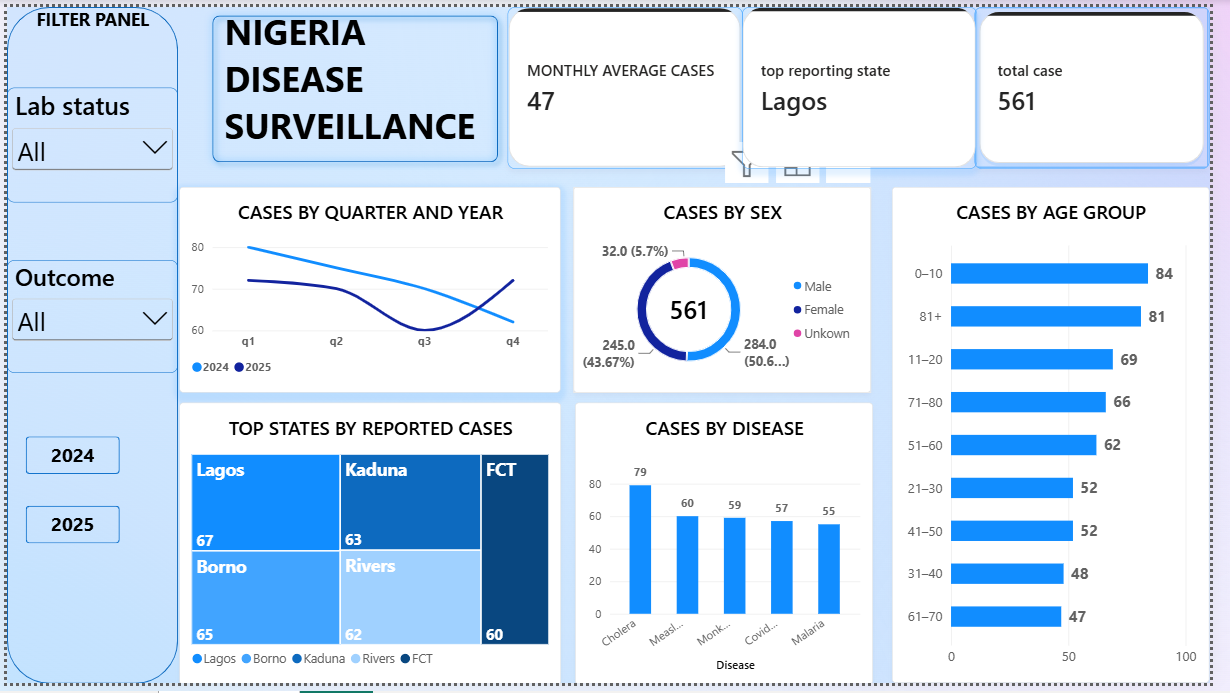

The page's visual inventory and layout, read from the dashboard file:
{"tool":"powerbi","page":{"name":"Page 1","canvas":[1280,720],"ordinal":0},"visuals":[{"type":"shape","box":[210,0,322,174],"z":1000},{"type":"cardVisual","title":"Average cases per month","fields":{"Data":["measures (2).MONTHLY AVERAGE CASES"]},"box":[532.6,0,250,172],"z":2000},{"type":"lineChart","title":"CASES BY QUARTER AND YEAR","fields":{"Category":["CALENDAR.quarter"],"Y":["measures (2).total cases"],"Series":["CALENDAR.year"]},"box":[184.3,191.7,405.5,218.7],"z":12000},{"type":"barChart","title":"CASES BY AGE GROUP","fields":{"Category":["Nigeria Disease Surveillance.Age Group"],"Y":["measures (2).total cases"]},"box":[942.5,192.5,337.5,527.5],"z":13000},{"type":"donutChart","title":"CASES BY SEX","fields":{"Category":["Nigeria Disease Surveillance.Sex"],"Y":["measures (2).total cases"]},"box":[602.2,191.7,317.1,218.7],"z":14000},{"type":"clusteredColumnChart","title":"CASES BY DISEASE","fields":{"Category":["Nigeria Disease Surveillance.Disease"],"Y":["measures (2).total cases"]},"box":[604.6,420.3,317.1,299.8],"z":16000},{"type":"cardVisual","fields":{"Data":["measures (2).total case"]},"box":[1030,0,250,172.5],"z":17000},{"type":"cardVisual","fields":{"Data":["measures (2).top reporting state"]},"box":[781.6,0,250,172],"z":18000},{"type":"shape","box":[0,0,182,720],"z":21000},{"type":"slicer","fields":{"Values":["Nigeria Disease Surveillance.Outcome"]},"box":[0,270,182,120],"z":22000},{"type":"slicer","fields":{"Values":["Nigeria Disease Surveillance.LabConfirmed"]},"box":[0,85,182,122],"z":23000},{"type":"treemap","title":"TOP STATES BY REPORTED CASES","fields":{"Group":["Dim location.State"],"Values":["measures (2).total case"]},"box":[184.3,420.3,406,300],"z":24000},{"type":"textbox","box":[232,0,300,174],"z":25000},{"type":"actionButton","box":[20,456,100,40],"z":26000},{"type":"actionButton","box":[20,530,100,40],"z":27000},{"type":"textbox","box":[0,0,182.5,60],"z":28000}]}

Visuals, with their boxes in screenshot pixels (x1, y1, x2, y2), scaled from the page's 1280x720 canvas onto the 1230x693 screenshot:
shape: detection(202, 0, 511, 167)
"Average cases per month" cardVisual: detection(512, 0, 752, 166)
"CASES BY QUARTER AND YEAR" lineChart: detection(177, 185, 567, 395)
"CASES BY AGE GROUP" barChart: detection(906, 185, 1229, 692)
"CASES BY SEX" donutChart: detection(579, 185, 883, 395)
"CASES BY DISEASE" clusteredColumnChart: detection(581, 405, 886, 692)
cardVisual - measures (2).total case: detection(990, 0, 1229, 166)
cardVisual - measures (2).top reporting state: detection(751, 0, 991, 166)
shape: detection(0, 0, 175, 692)
slicer - Nigeria Disease Surveillance.Outcome: detection(0, 260, 175, 375)
slicer - Nigeria Disease Surveillance.LabConfirmed: detection(0, 82, 175, 199)
"TOP STATES BY REPORTED CASES" treemap: detection(177, 405, 567, 692)
textbox: detection(223, 0, 511, 167)
actionButton: detection(19, 439, 115, 477)
actionButton: detection(19, 510, 115, 549)
textbox: detection(0, 0, 175, 58)
